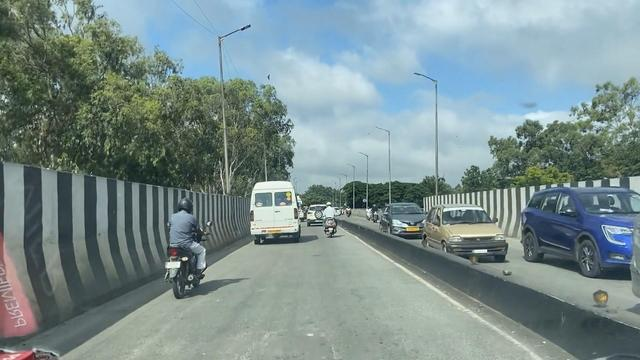HMV: (253, 181, 303, 244)
LMV: (162, 201, 204, 303), (325, 201, 341, 243)
